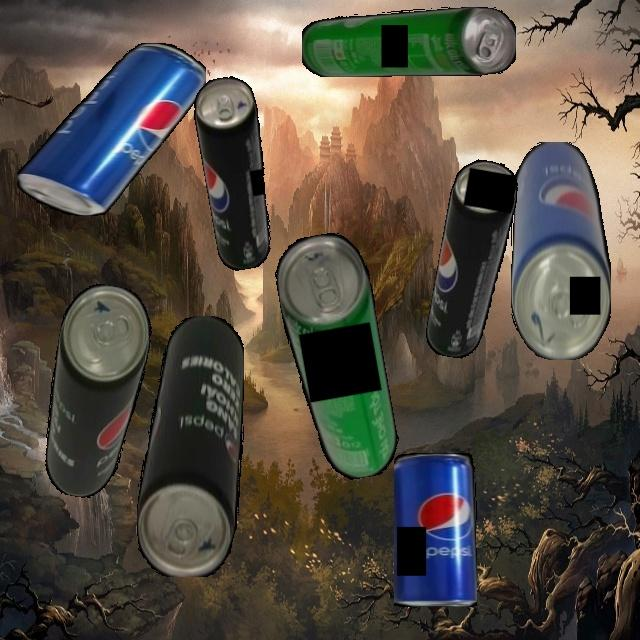debris: (270, 228, 404, 486), (16, 43, 206, 216), (136, 315, 244, 577), (33, 279, 158, 504), (510, 141, 611, 360), (423, 156, 522, 363), (189, 73, 284, 273), (301, 7, 516, 77), (393, 453, 477, 607)
